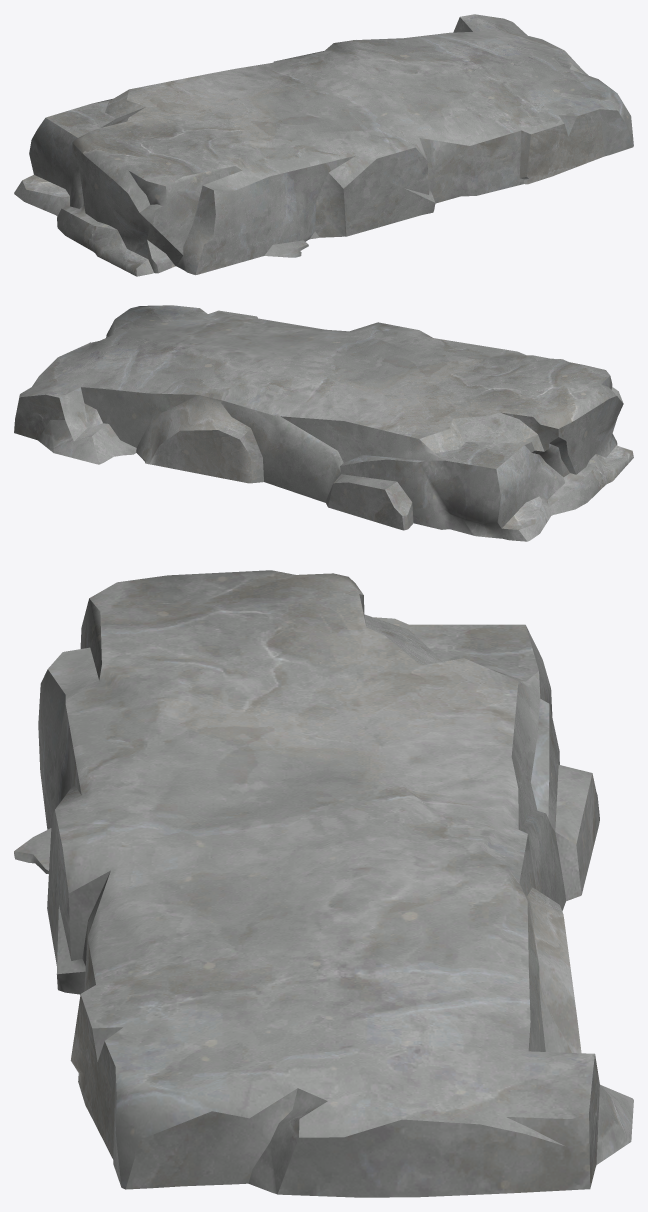
File: SM_Com_Roc_13AS.fbx
3 renders of one model, top to bottom at view 1: azimuth 30°, elevation 25°; view 2: azimuth 150°, elevation 25°; view 3: azimuth 270°, elevation 25°, orthographic. The views are drawn at different scales.
Visible parts, largest first — view 1: SM_Com_Roc_13AS.mo; view 2: SM_Com_Roc_13AS.mo; view 3: SM_Com_Roc_13AS.mo.
Boxes of the visible parts, x1,y1,x2,y2 form: SM_Com_Roc_13AS.mo: [14, 14, 633, 276]; SM_Com_Roc_13AS.mo: [14, 305, 633, 541]; SM_Com_Roc_13AS.mo: [14, 570, 633, 1197].
Size of the model in its own units: 39.47 by 6.28 by 21.51.
